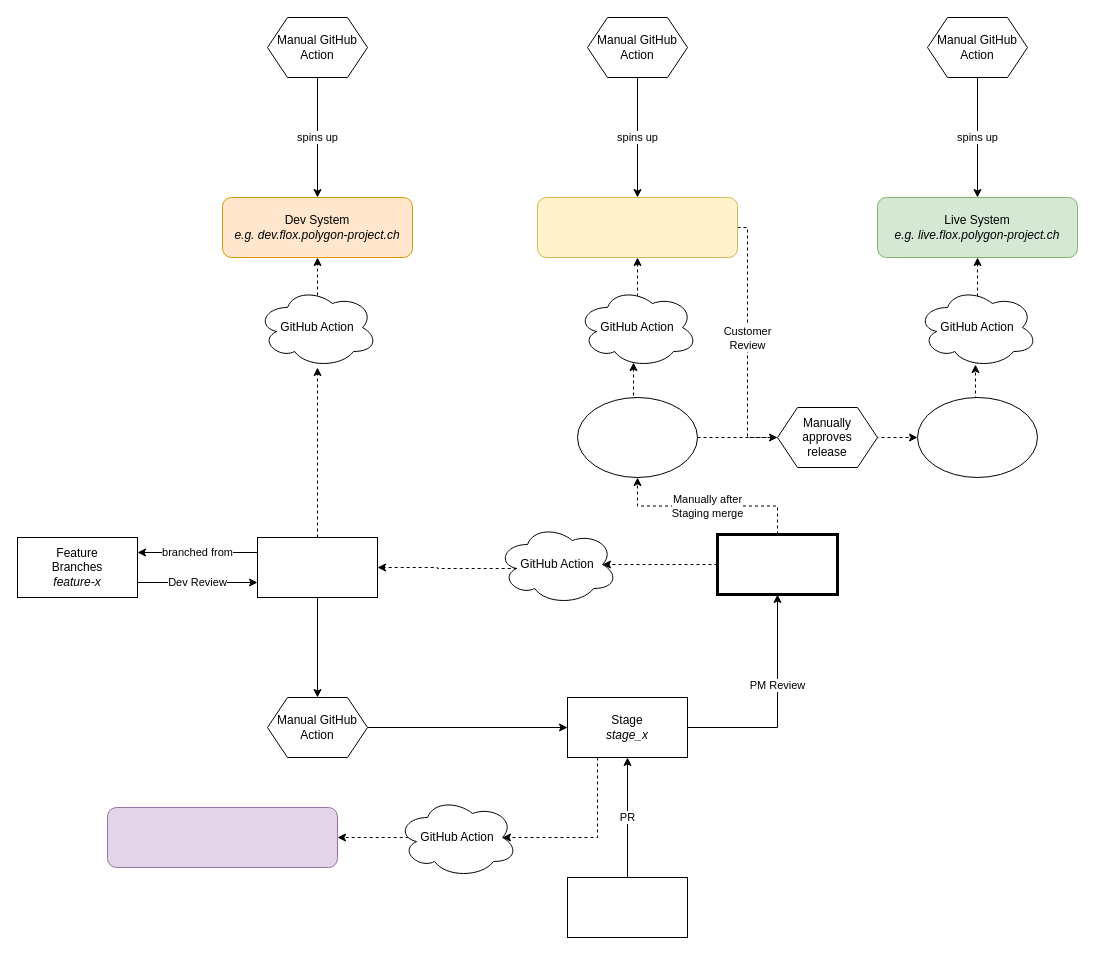
This 1095x955 diagram has some shape labels left out. The centre of each missing label's shape, as x and y in pixels:
Dev dev: pixel 317 567
Fix Branches fix-x: pixel 627 907
Master master: pixel 777 564
Release draft: pixel 637 437
Release live: pixel 977 437
Staging System e.g. stage-2108.flox.polygon-project.ch: pixel 222 837
Test System e.g. test.flox.polygon-project.ch: pixel 637 227
